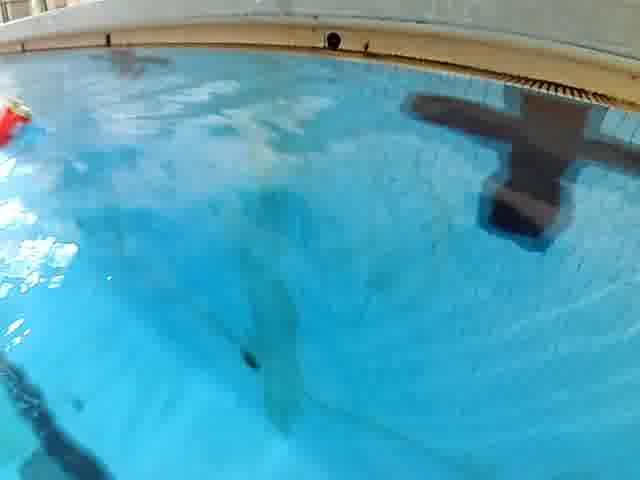Can: (0, 77, 50, 165)
